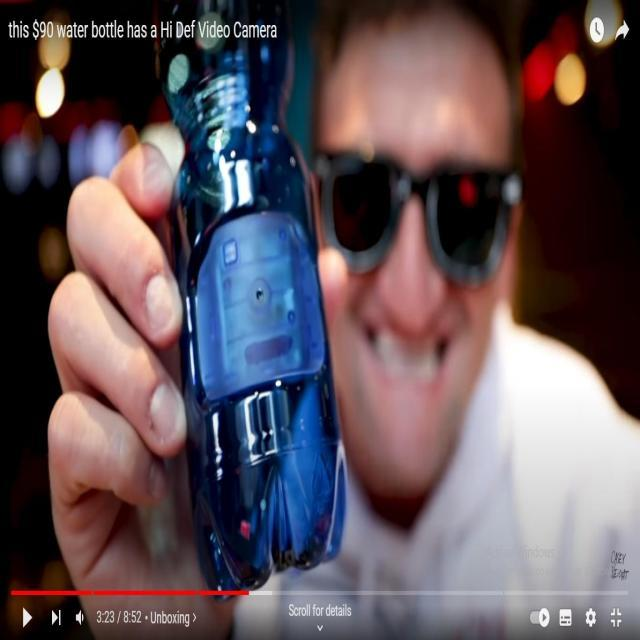hidden camera: (248, 268, 273, 317)
